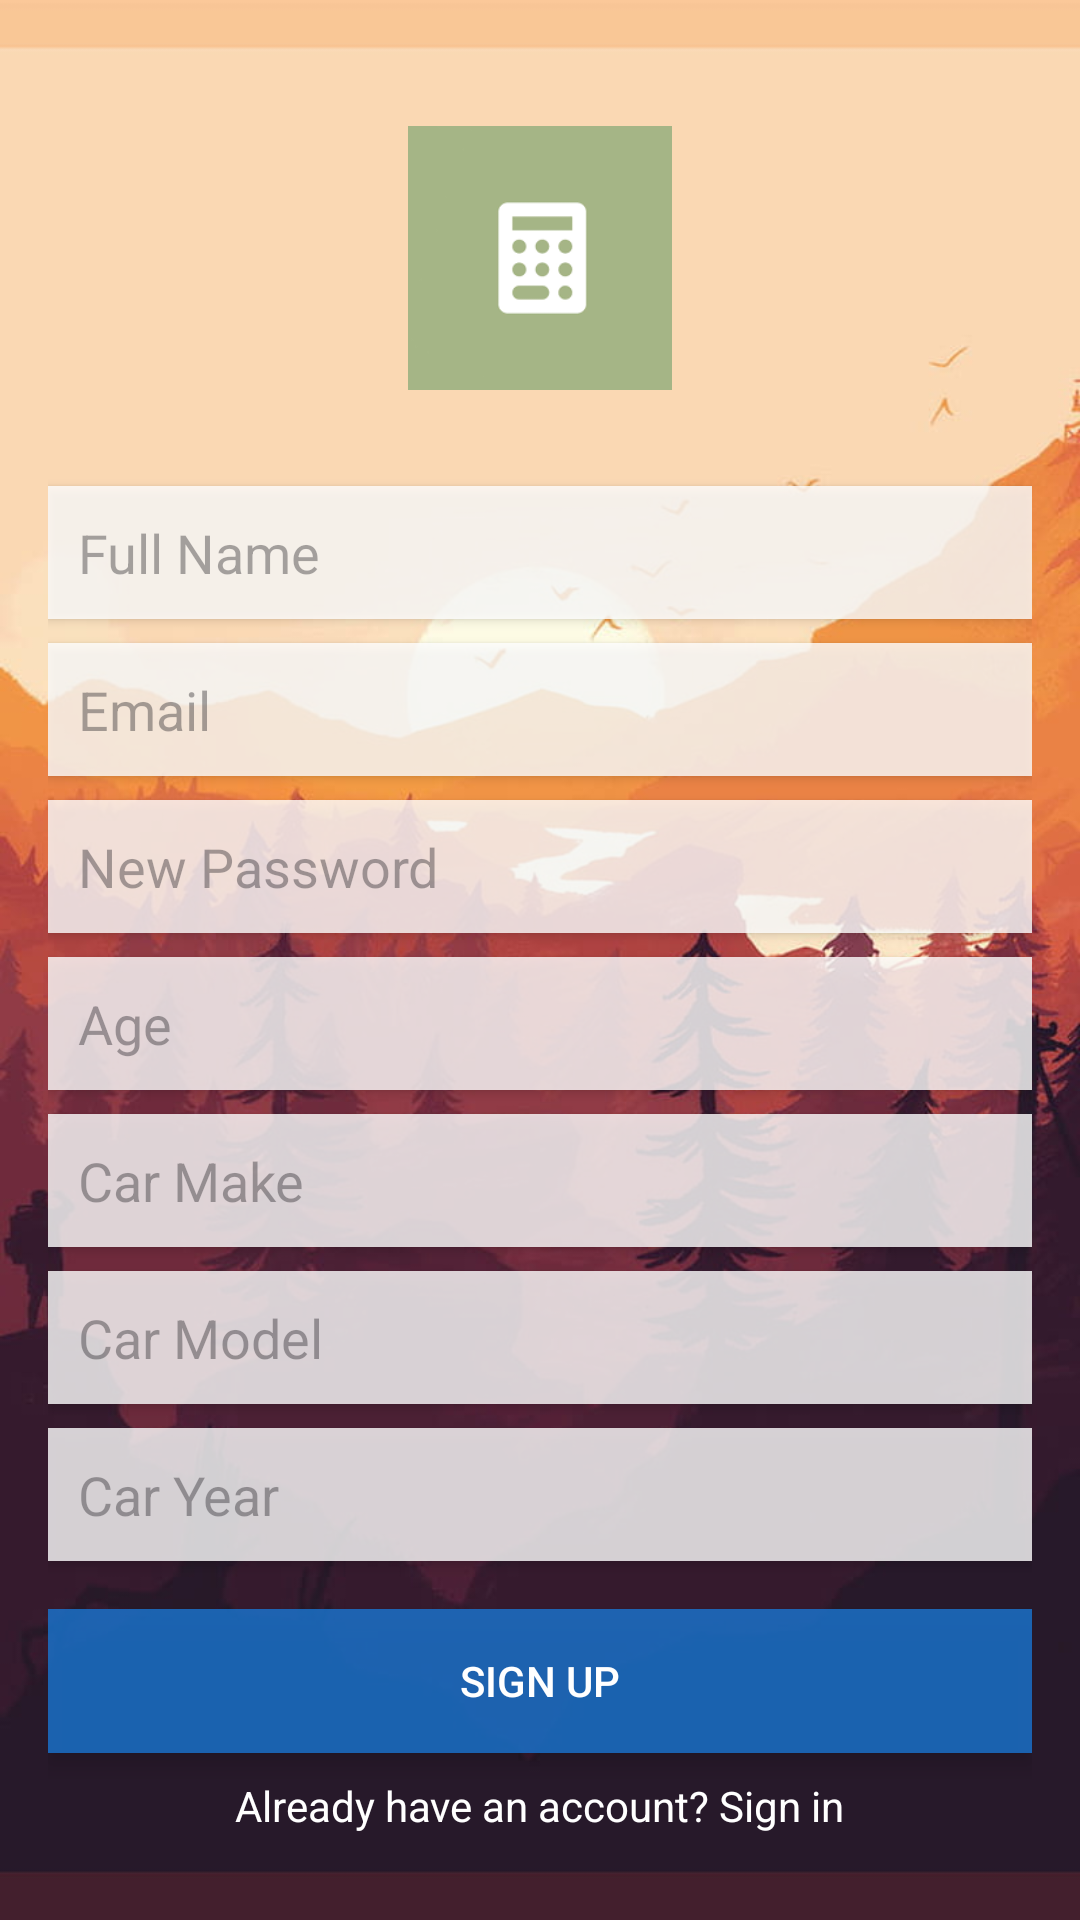

Locate icon controls on the screen. Image size 1080 x 1920, boxes as region(x1, y1, x2, y2).
greencalc: region(408, 126, 672, 390)
